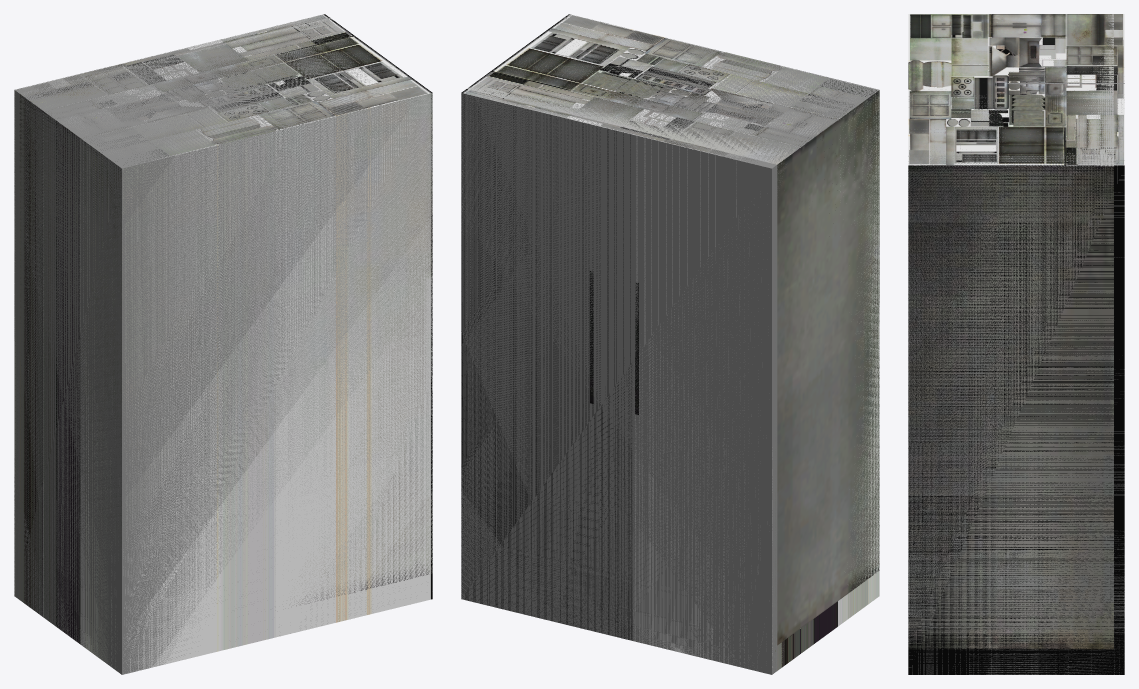
Rendered from pantry_01.FBX.
The picture shows the model from 3 angles, left to right: view 1: azimuth 30°, elevation 25°; view 2: azimuth 150°, elevation 25°; view 3: azimuth 270°, elevation 25°; orthographic projection.
Parts seen in each view (by area): view 1: colbox-1, bounds, pantry_one100; view 2: bounds, colbox-1, pantry_one100; view 3: colbox-1, pantry_one100, bounds.
Boxes of the visible parts, x1,y1,x2,y2 form: colbox-1: (14, 14, 432, 673); bounds: (14, 14, 417, 674); pantry_one100: (19, 18, 432, 612); bounds: (461, 14, 878, 674); colbox-1: (461, 14, 879, 672); pantry_one100: (467, 82, 879, 645); colbox-1: (908, 14, 1124, 674); pantry_one100: (908, 14, 1113, 649); bounds: (908, 62, 1124, 674).
Size of the model in its own units: 143 by 223 by 85.97.
